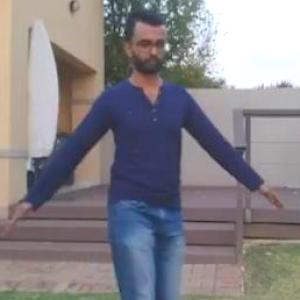land: (5, 23, 250, 299)
